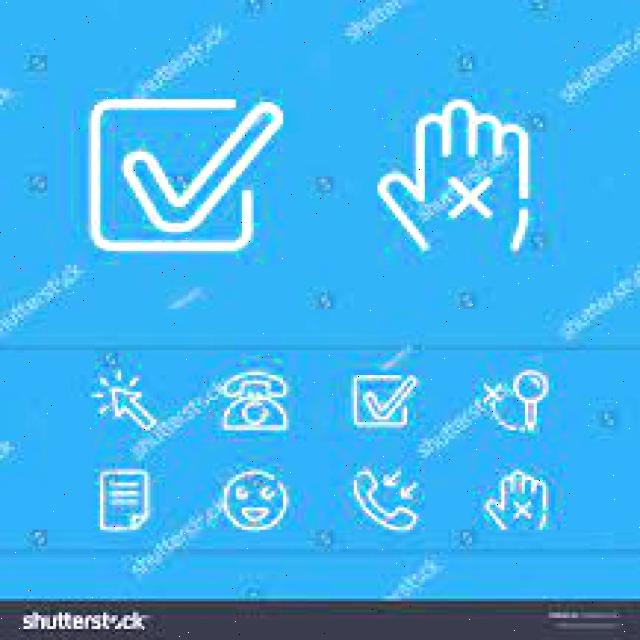button: (372, 88, 555, 280), (92, 96, 256, 251), (344, 468, 432, 538), (479, 463, 555, 538), (220, 364, 292, 436), (488, 364, 551, 440), (92, 368, 160, 437), (224, 466, 288, 533), (94, 464, 154, 534), (349, 373, 418, 430)
